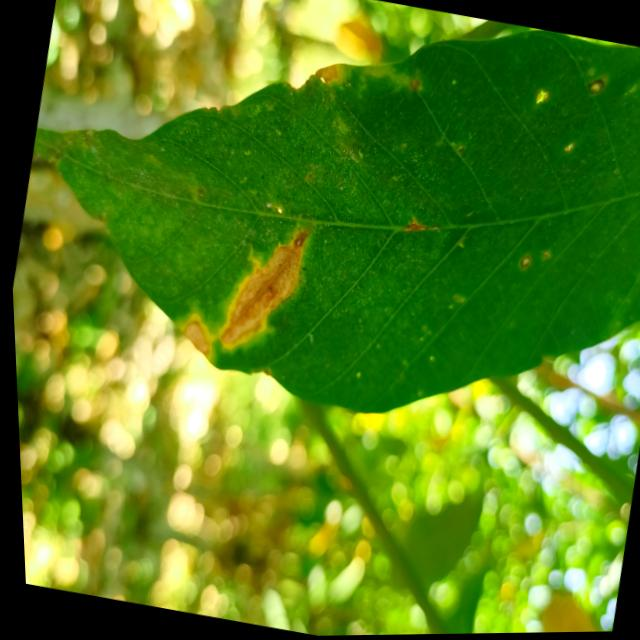Colletotrichum: (585, 78, 606, 97), (532, 89, 551, 108), (517, 254, 530, 271), (561, 142, 575, 155)
Leaf-Blight: (214, 216, 312, 355), (175, 318, 213, 357), (314, 62, 340, 86)
